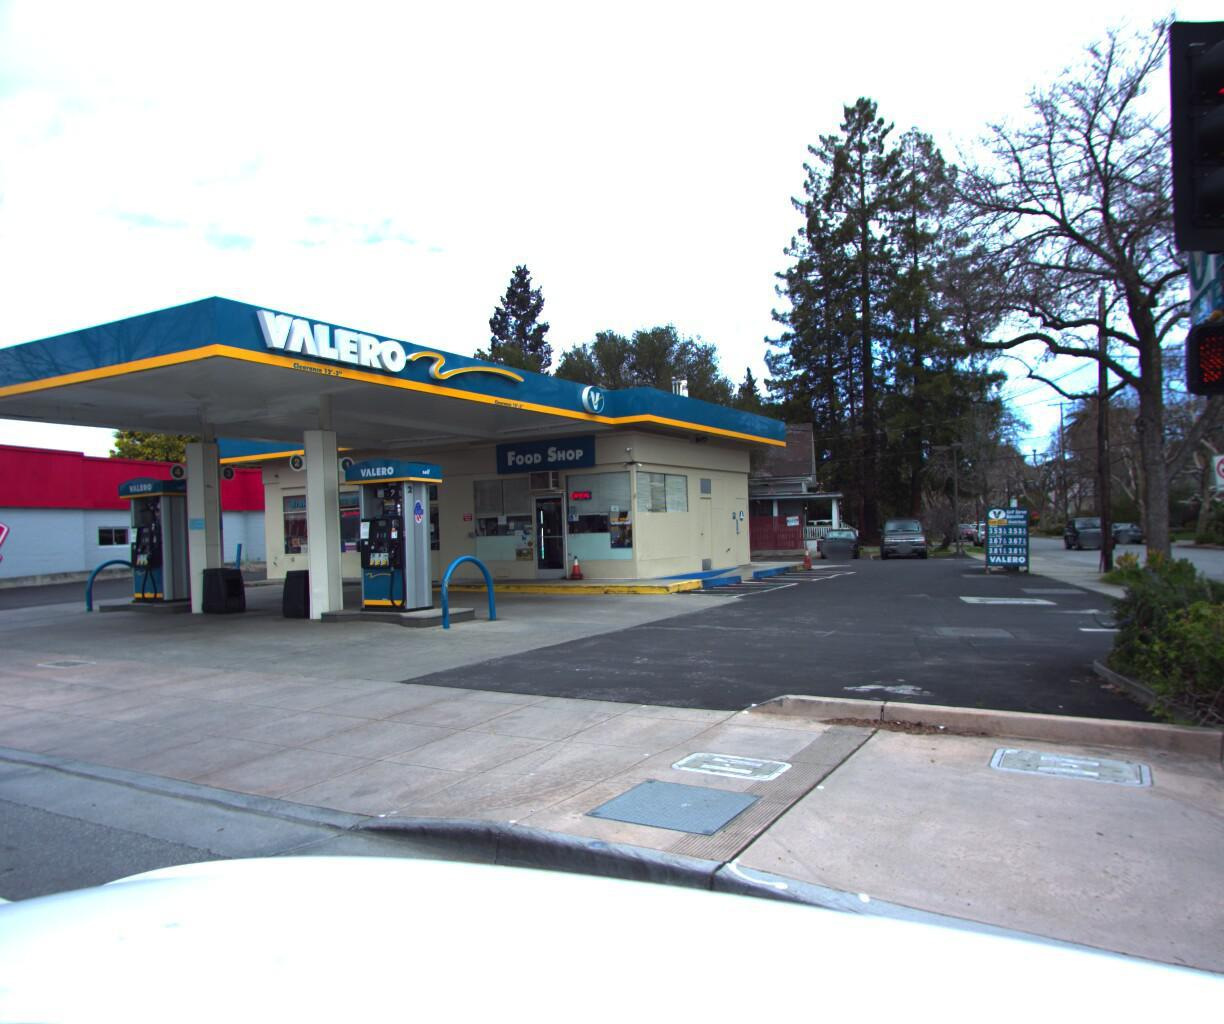car: (406, 484, 566, 553), (875, 509, 930, 555), (1051, 505, 1117, 543), (1092, 514, 1148, 542), (815, 522, 860, 556)
